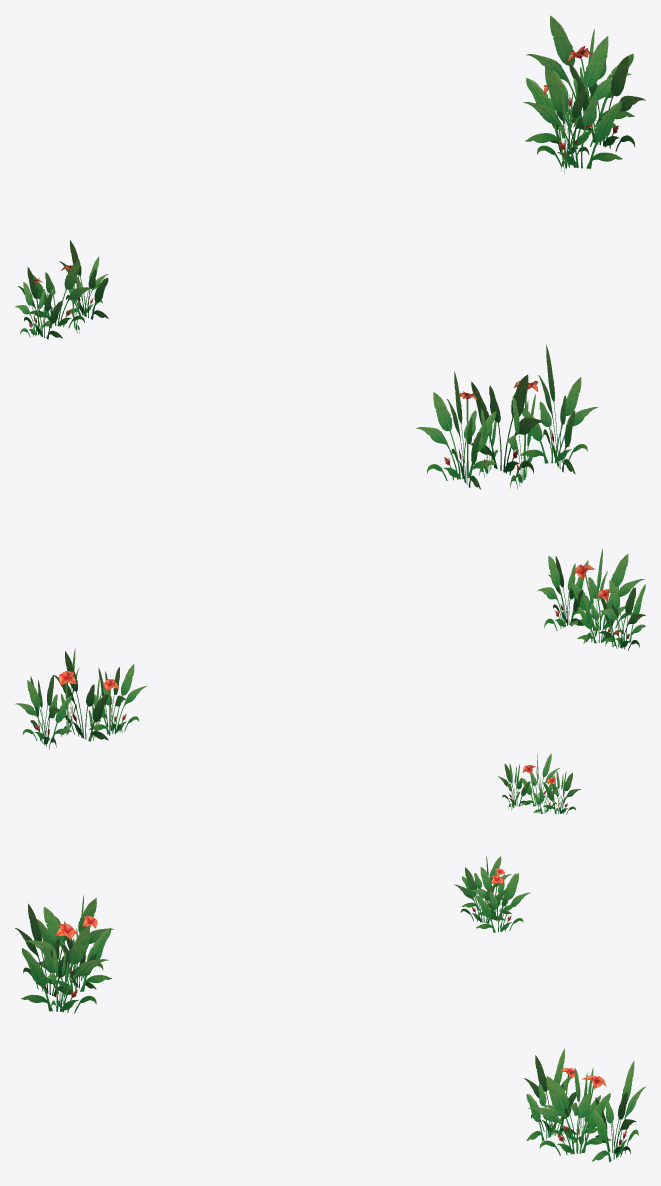
The model's file is area_01_2.fbx.
3 renders of one model, top to bottom at view 1: azimuth 30°, elevation 25°; view 2: azimuth 150°, elevation 25°; view 3: azimuth 270°, elevation 25°, orthographic. The views are drawn at different scales.
Visible parts, largest first — view 1: area_01_2; view 2: area_01_2; view 3: area_01_2.
Boxes of the visible parts, x1,y1,x2,y2 form: area_01_2: [15, 15, 645, 489]; area_01_2: [15, 548, 645, 814]; area_01_2: [15, 856, 645, 1161].
Size of the model in its own units: 11.94 by 1.83 by 11.74.
